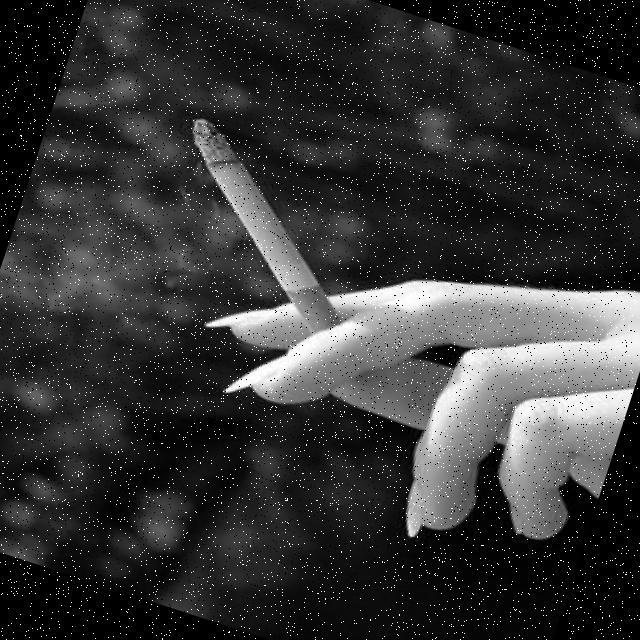cigarette: (129, 102, 410, 355)
